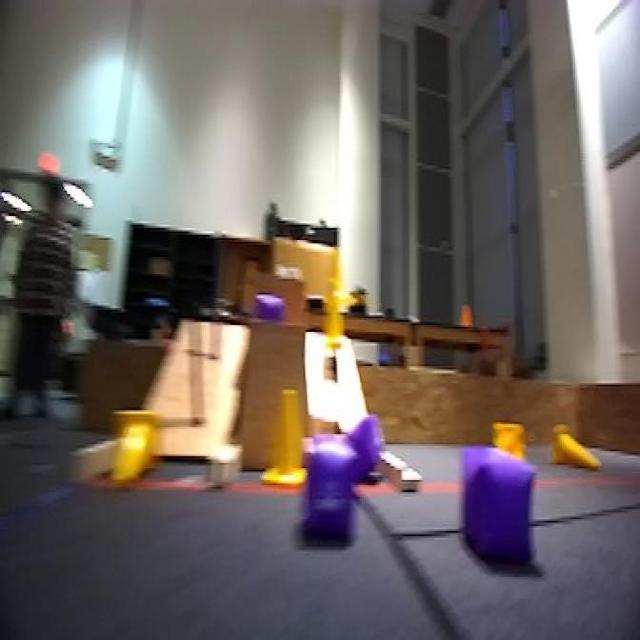frc_cone: (269, 381, 323, 494), (115, 405, 155, 490), (549, 425, 603, 475), (322, 291, 352, 358), (487, 421, 528, 466), (328, 240, 344, 308)
frc_cube: (456, 446, 544, 562), (302, 434, 351, 548), (338, 411, 381, 484), (255, 296, 285, 325)
